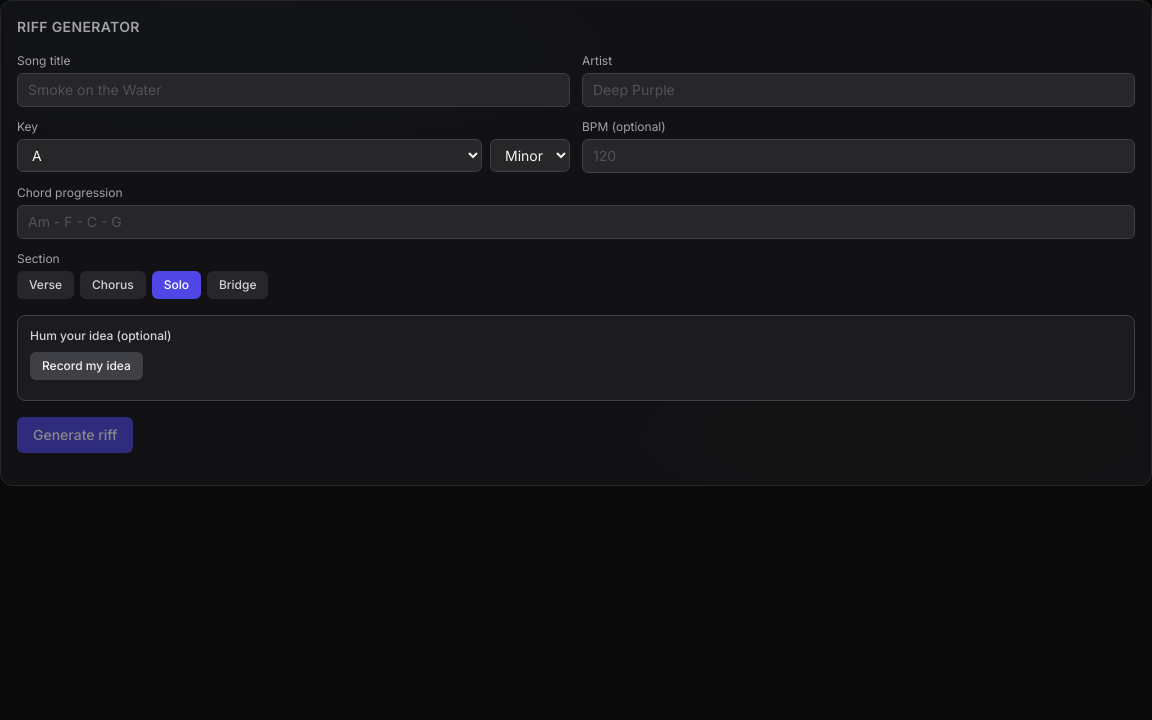
Test: RiffGenerator › shows riff result after a successful API response
Type "Test Song" into the field with placeholder "Smoke on the Water".
click(294, 90); type("Test Song")  # box [17,73,570,107]
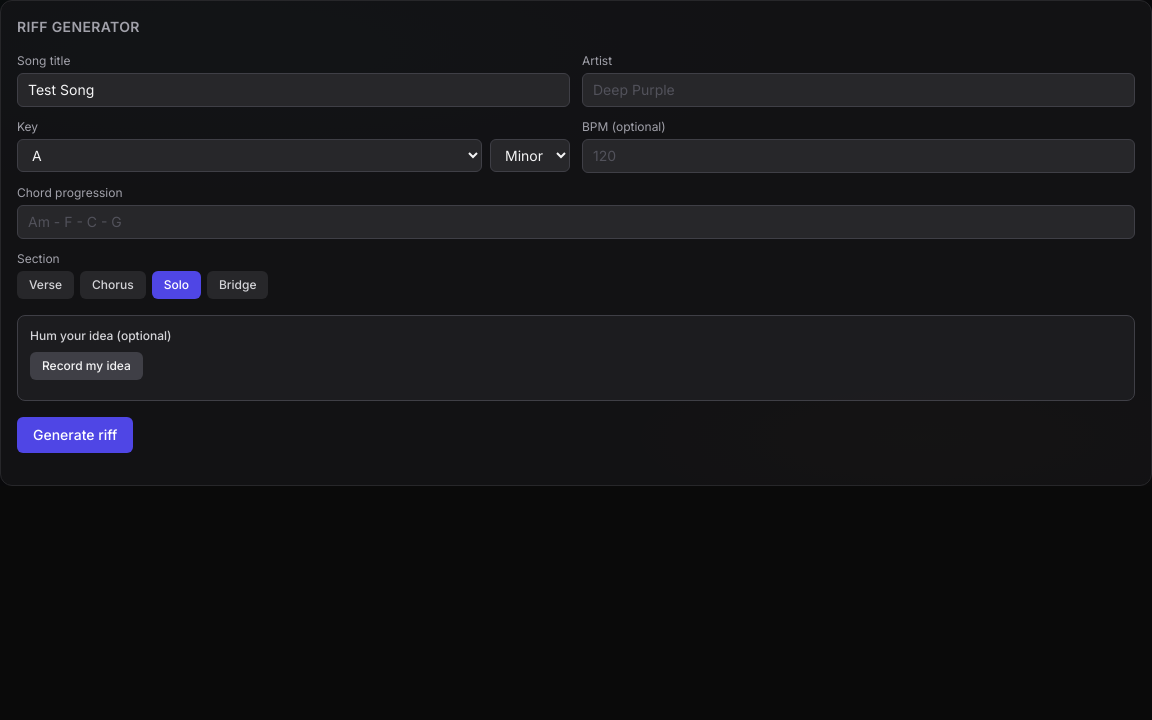
Click the button "Generate riff".
click(75, 435)  # box [17,417,133,453]
(page scrolled)
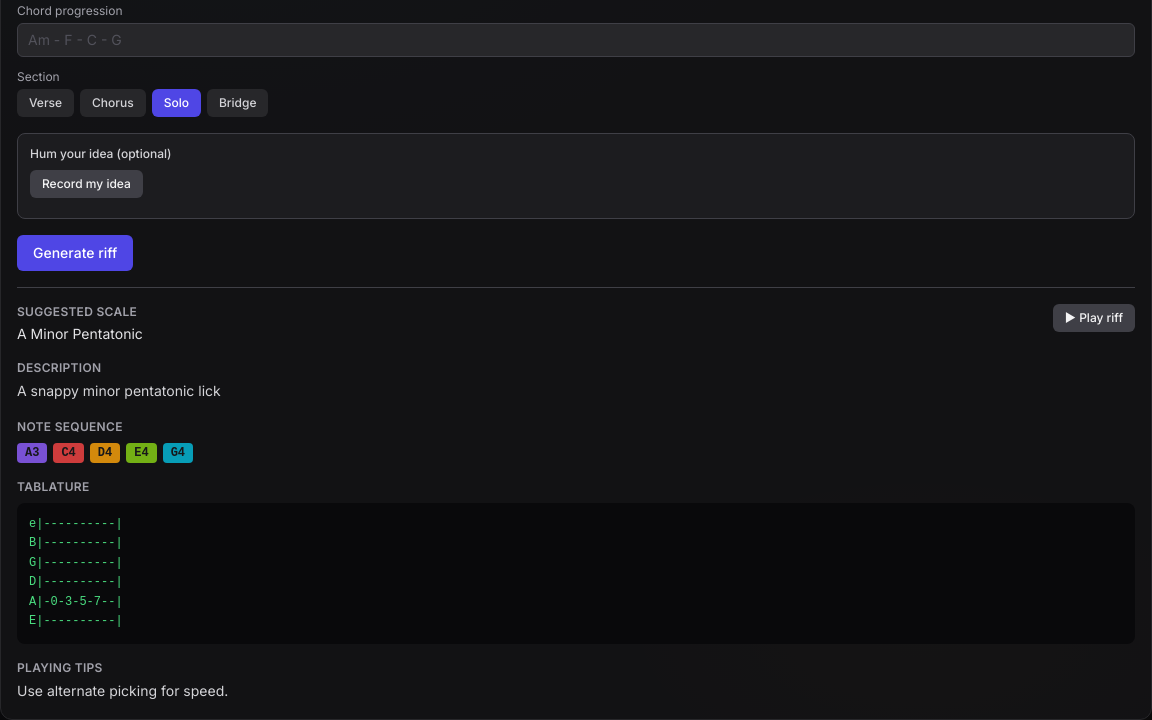
Expected: the text "A snappy minor pentatonic lick" is shown, [17,382,221,399]
Expected: the text "A Minor Pentatonic" is shown, [17,324,143,344]
Expected: the text "Use alternate picking for speed." is shown, [17,682,228,699]
